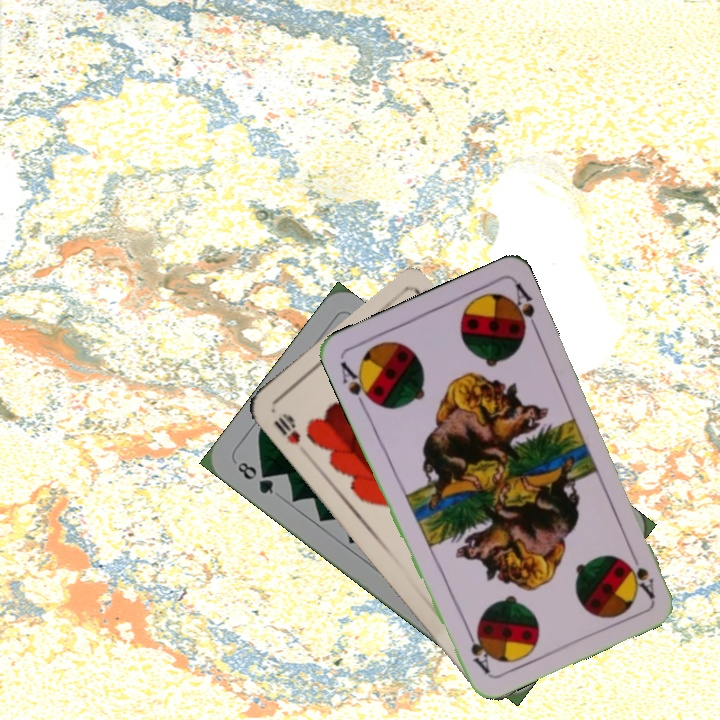G8: (233, 457, 277, 497)
H10: (270, 408, 304, 447)
SA: (336, 357, 377, 412), (622, 545, 658, 601)
